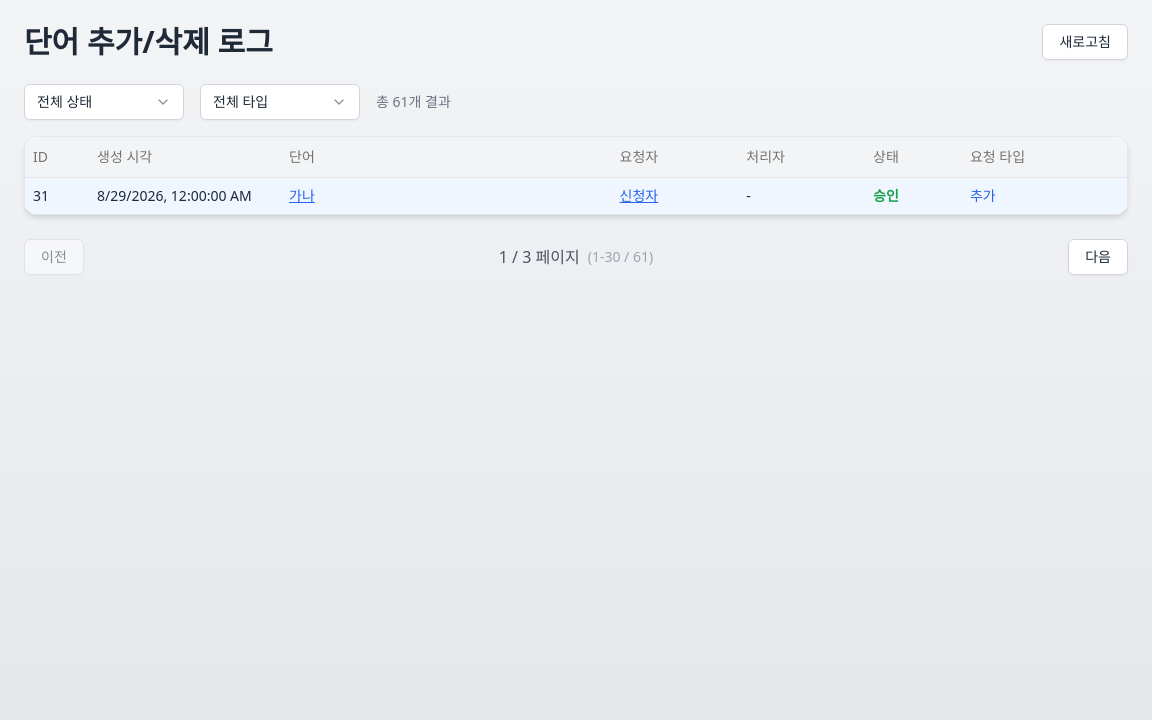
Scenario: LogsHome › keeps pagination metadata but hides stale rows during an uncached page transition
Expected: the text "가나" is shown, [281, 177, 612, 214]
Click the button "다음" at (1098, 256), box [1068, 238, 1128, 274]
(page scrolled)
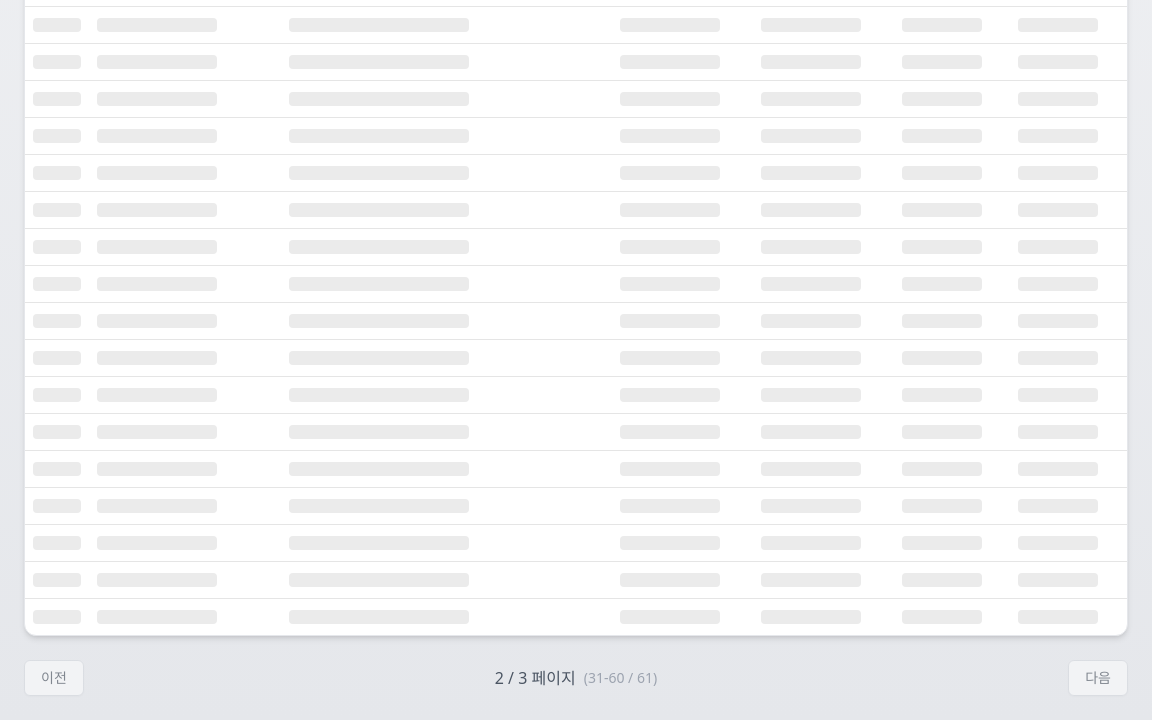
Now the text "2 / 3 페이지" is shown, box [495, 666, 576, 690]
Now the text "(31-60 / 61)" is shown, box [584, 668, 657, 688]
Now the text "가나" is gone
